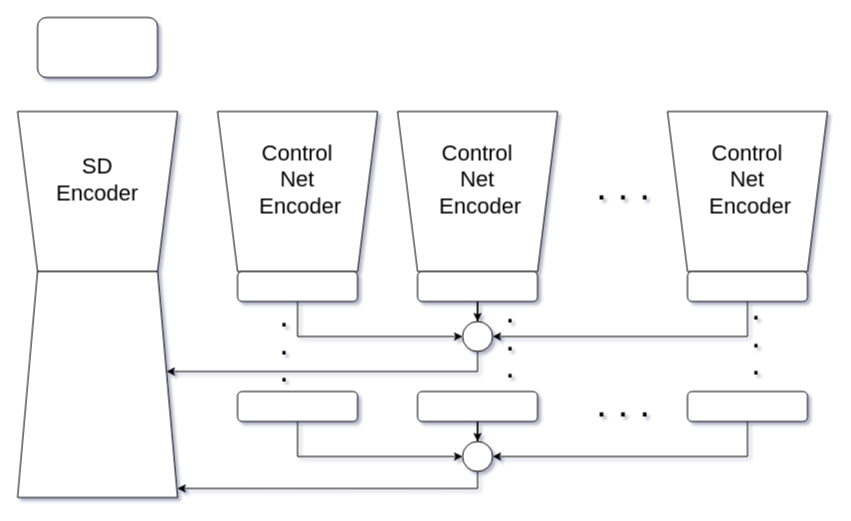
This 851x521 diagram has some shape labels left out. The centre of each missing label's shape, as x and y in pixels:
Content: the point at 97,47
SD Decoder: the point at 97,384
